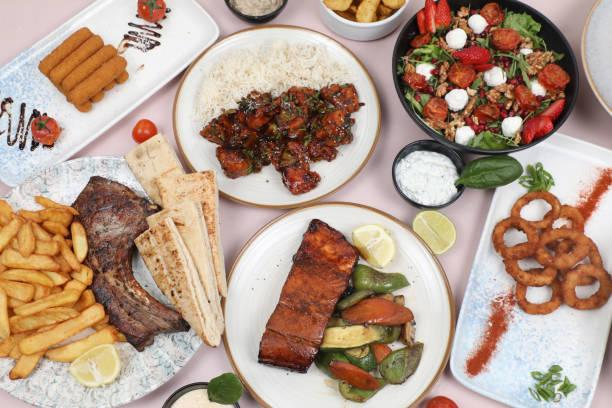Braised Crucian Carp: (1, 154, 204, 407), (220, 199, 451, 407), (445, 136, 612, 406), (171, 24, 373, 212), (391, 0, 573, 156), (579, 0, 612, 128)
